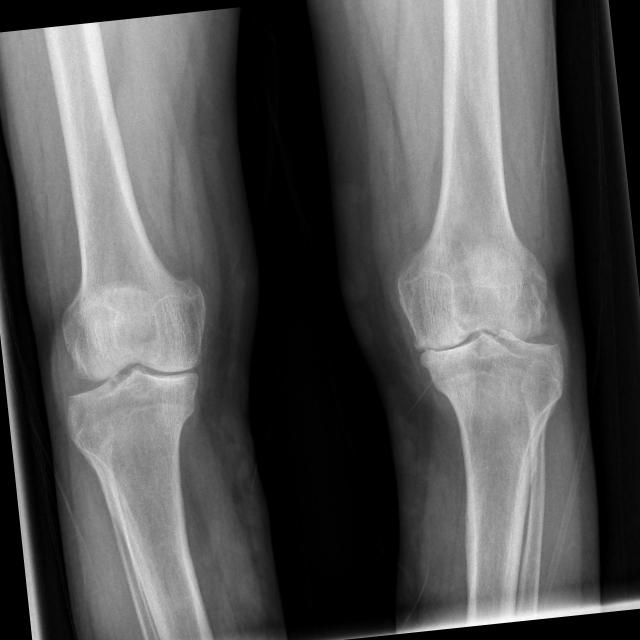Knee: (394, 270, 567, 418), (52, 300, 220, 451)
